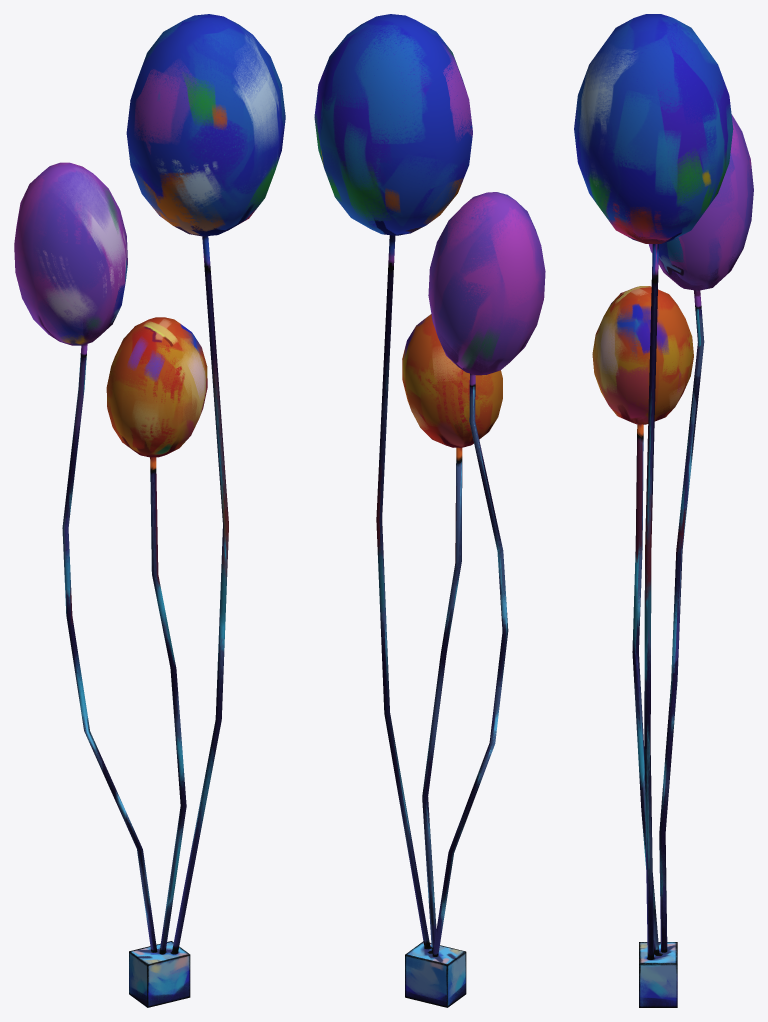
File: tall Balloons.glb
3 renders of one model, left to right at view 1: azimuth 30°, elevation 25°; view 2: azimuth 150°, elevation 25°; view 3: azimuth 270°, elevation 25°, orthographic. The views are drawn at different scales.
Visible parts, largest first — view 1: Balloons3_longvers; view 2: Balloons3_longvers; view 3: Balloons3_longvers.
Part boxes in pixels (left/top/right/bottom): Balloons3_longvers: left=14, top=14, right=285, bottom=1007; Balloons3_longvers: left=314, top=14, right=545, bottom=1007; Balloons3_longvers: left=574, top=14, right=753, bottom=1007.
Size of the model in its own units: 5.01 by 19.94 by 3.25.
Materials: 1 (1 with a texture image).
